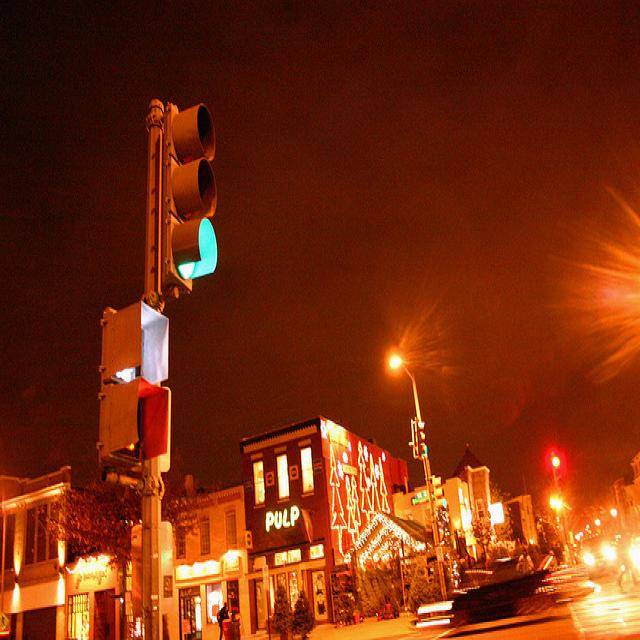Vehicle: (586, 536, 618, 580)
